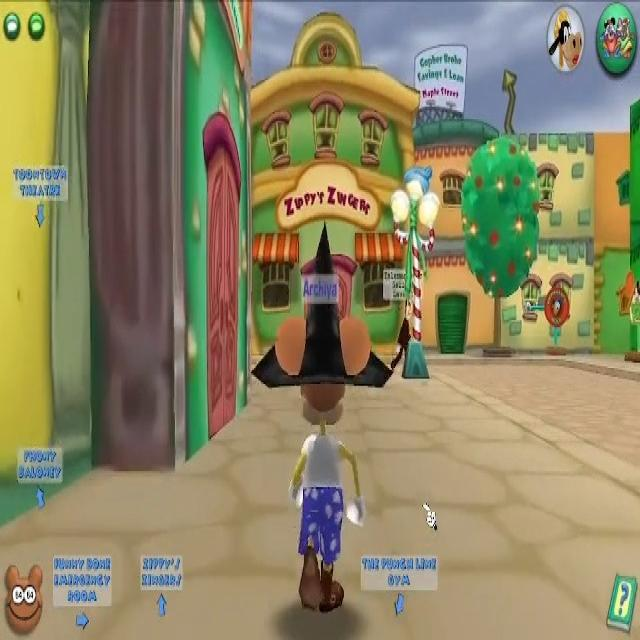telemarketer: (384, 270, 419, 378)
